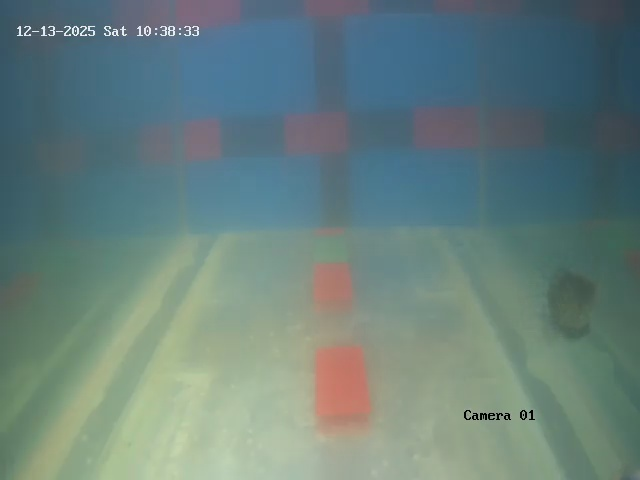fish: (541, 261, 603, 344)
